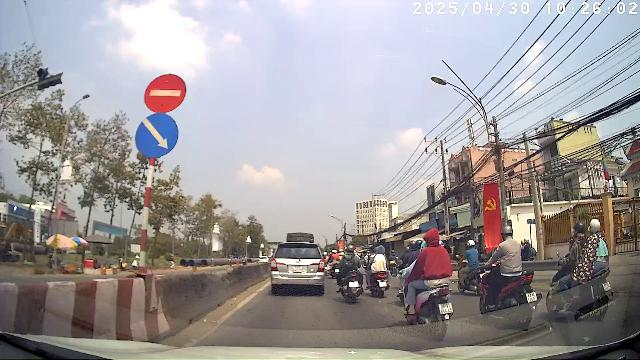102-cam-di-nguoc-chieu: (144, 73, 186, 113)
302a-huong-phai-di-vong-chuong-ngai-vat-1: (135, 112, 179, 158)
